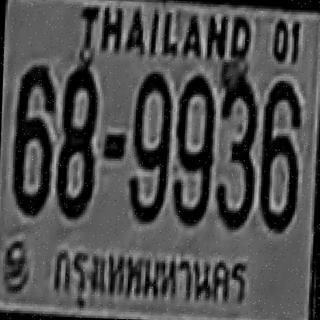N00: (13, 114, 56, 214), (132, 70, 172, 169), (175, 74, 215, 170), (218, 73, 256, 160), (64, 60, 100, 140)
P04: (49, 245, 252, 320)
